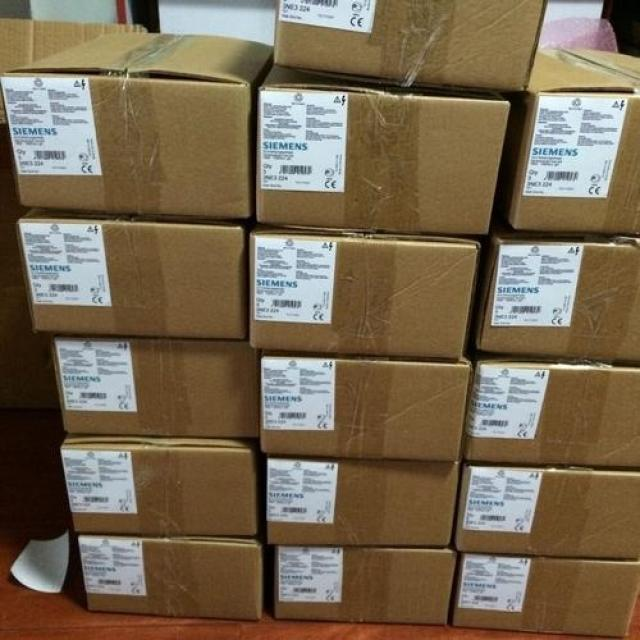box: (0, 32, 273, 220), (253, 64, 511, 236), (17, 207, 256, 340), (247, 225, 480, 360), (495, 47, 640, 234), (273, 0, 547, 93), (468, 218, 640, 362), (259, 353, 470, 461), (461, 348, 640, 468), (49, 335, 261, 436), (59, 435, 264, 536), (261, 452, 461, 547), (454, 463, 640, 559), (77, 535, 273, 620), (449, 553, 640, 637), (270, 545, 458, 626)
